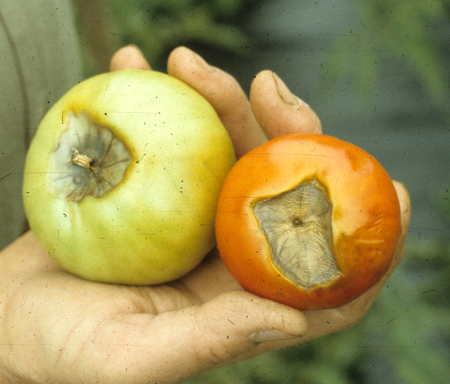blossom_rotw: (248, 163, 369, 287), (48, 107, 151, 218)
